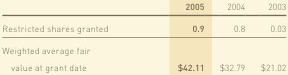table: (1, 0, 285, 71)
table column: (1, 0, 142, 71), (142, 0, 211, 71), (211, 0, 252, 71), (252, 0, 285, 71)
table column header: (1, 0, 285, 17)
table row: (1, 39, 285, 71), (1, 17, 285, 39), (1, 0, 285, 17)
